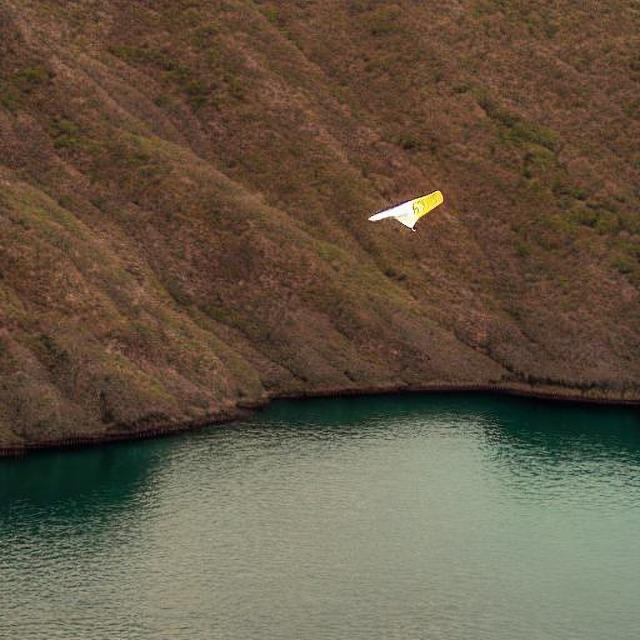floating object: (366, 189, 444, 229)
